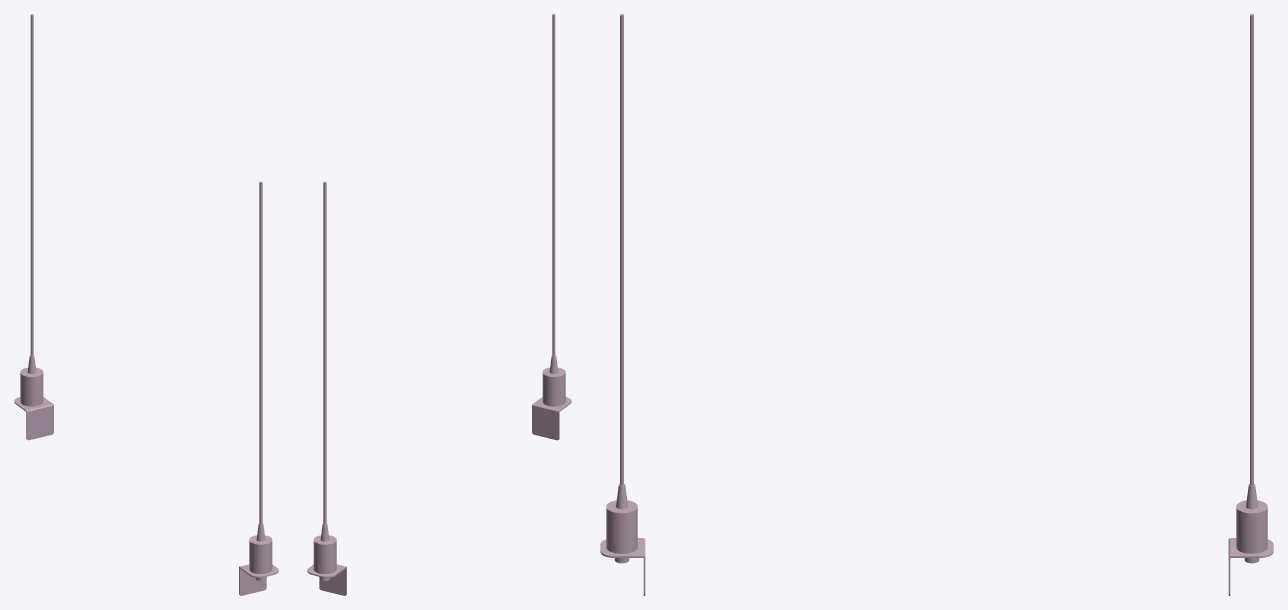
The model's file is OUTFITTING_INTERIOR__EXT. INSTRUMENTS__Shakespeare 5215-AIS Squatty Body 36_ VHF-AIS Antenna Whip.glb.
3 views of the same model, side by side, from view 1: azimuth 30°, elevation 25°; view 2: azimuth 150°, elevation 25°; view 3: azimuth 270°, elevation 25° (orthographic). The views are drawn at different scales.
Parts seen in each view (by area): view 1: Shakespeare 5215-AIS Squatty Body 36" VHF-AIS Antenna Whip; view 2: Shakespeare 5215-AIS Squatty Body 36" VHF-AIS Antenna Whip; view 3: Shakespeare 5215-AIS Squatty Body 36" VHF-AIS Antenna Whip.
Boxes of the visible parts, x1,y1,x2,y2 form: Shakespeare 5215-AIS Squatty Body 36" VHF-AIS Antenna Whip: [14, 14, 278, 595]; Shakespeare 5215-AIS Squatty Body 36" VHF-AIS Antenna Whip: [307, 14, 571, 595]; Shakespeare 5215-AIS Squatty Body 36" VHF-AIS Antenna Whip: [600, 14, 1273, 595].
Bounding box in the file's own units: 0.0762 × 1.12 × 1.19.
